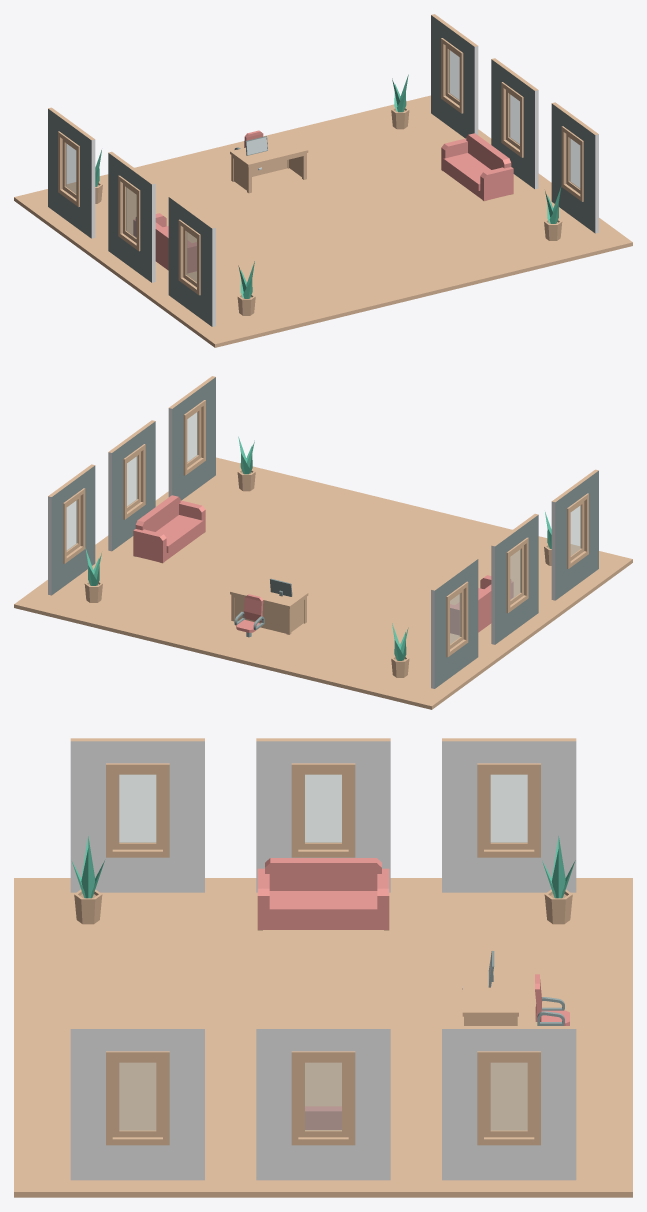
File: office_lobby.glb
3 renders of one model, top to bottom at view 1: azimuth 30°, elevation 25°; view 2: azimuth 150°, elevation 25°; view 3: azimuth 270°, elevation 25°, orthographic. The views are drawn at different scales.
Visible parts, largest first — view 1: wallWindow(Clone).003, wallWindow(Clone).001, wallWindow(Clone).002, wallWindow(Clone), wallWindow(Clone).005, wallWindow(Clone).004, loungeSofa(Clone).001, floorFull(Clone).021, floorFull(Clone).016, floorFull(Clone).011, floorFull(Clone).006, floorFull(Clone).022 (+32 smaller); view 2: wallWindow(Clone).005, wallWindow(Clone).001, wallWindow(Clone), wallWindow(Clone).002, wallWindow(Clone).003, wallWindow(Clone).004, loungeSofa(Clone).001, floorFull(Clone).025, floorFull(Clone).010, floorFull(Clone).015, floorFull(Clone).020, floorFull(Clone).023 (+33 smaller); view 3: wallWindow(Clone).004, wallWindow(Clone).003, wallWindow(Clone).005, wallWindow(Clone), wallWindow(Clone).002, wallWindow(Clone).001, loungeSofa(Clone), floorFull(Clone).007, floorFull(Clone).008, floorFull(Clone).006, floorFull(Clone).010, floorFull(Clone).011 (+37 smaller).
Part boxes in pixels (<box>): wallWindow(Clone).003: <box>551,102,598,233</box>; wallWindow(Clone).001: <box>108,151,155,282</box>; wallWindow(Clone).002: <box>48,107,95,238</box>; wallWindow(Clone): <box>168,196,215,326</box>; wallWindow(Clone).005: <box>431,14,478,138</box>; wallWindow(Clone).004: <box>491,58,538,189</box>; loungeSofa(Clone).001: <box>441,133,513,201</box>; floorFull(Clone).021: <box>454,230,563,279</box>; floorFull(Clone).016: <box>384,247,493,296</box>; floorFull(Clone).011: <box>314,264,423,313</box>; floorFull(Clone).006: <box>255,281,354,330</box>; floorFull(Clone).022: <box>413,200,522,246</box>; wallWindow(Clone).005: <box>48,464,95,595</box>; wallWindow(Clone).001: <box>491,513,538,644</box>; wallWindow(Clone): <box>551,469,598,600</box>; wallWindow(Clone).002: <box>431,558,478,688</box>; wallWindow(Clone).003: <box>168,376,215,500</box>; wallWindow(Clone).004: <box>108,420,155,551</box>; loungeSofa(Clone).001: <box>133,495,205,563</box>; floorFull(Clone).025: <box>83,592,192,641</box>; floorFull(Clone).010: <box>292,643,391,692</box>; floorFull(Clone).015: <box>223,627,332,675</box>; floorFull(Clone).020: <box>153,609,260,658</box>; floorFull(Clone).023: <box>164,533,273,579</box>; wallWindow(Clone).004: <box>256,1026,390,1180</box>; wallWindow(Clone).003: <box>70,1026,204,1180</box>; wallWindow(Clone).005: <box>442,1026,576,1180</box>; wallWindow(Clone): <box>70,738,204,892</box>; wallWindow(Clone).002: <box>442,738,576,892</box>; wallWindow(Clone).001: <box>256,738,390,892</box>; loungeSofa(Clone): <box>257,858,389,930</box>; floorFull(Clone).007: <box>137,930,261,982</box>; floorFull(Clone).008: <box>261,930,385,982</box>; floorFull(Clone).006: <box>14,930,137,982</box>; floorFull(Clone).010: <box>509,930,632,982</box>; floorFull(Clone).011: <box>14,982,137,1034</box>.
Size of the model in its own units: 12 by 2.8 by 10.
